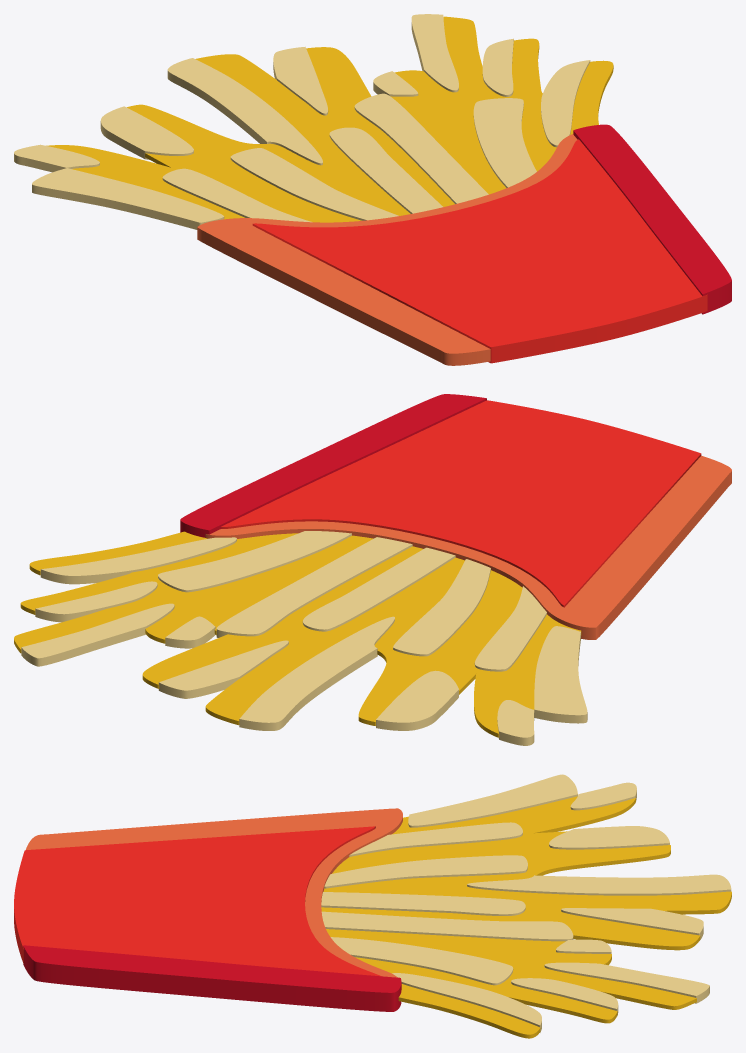
Rendered from emoji_u1f35f.glb.
3 renders of one model, top to bottom at view 1: azimuth 30°, elevation 25°; view 2: azimuth 150°, elevation 25°; view 3: azimuth 270°, elevation 25°, orthographic. The views are drawn at different scales.
Parts seen in each view (by area): view 1: emoji_u1f35f; view 2: emoji_u1f35f; view 3: emoji_u1f35f.
Boxes of the visible parts, x1,y1,x2,y2 form: emoji_u1f35f: [14, 14, 731, 365]; emoji_u1f35f: [14, 394, 731, 745]; emoji_u1f35f: [14, 774, 731, 1038].
Size of the model in its own units: 0.029 by 0.001 by 0.0341.
